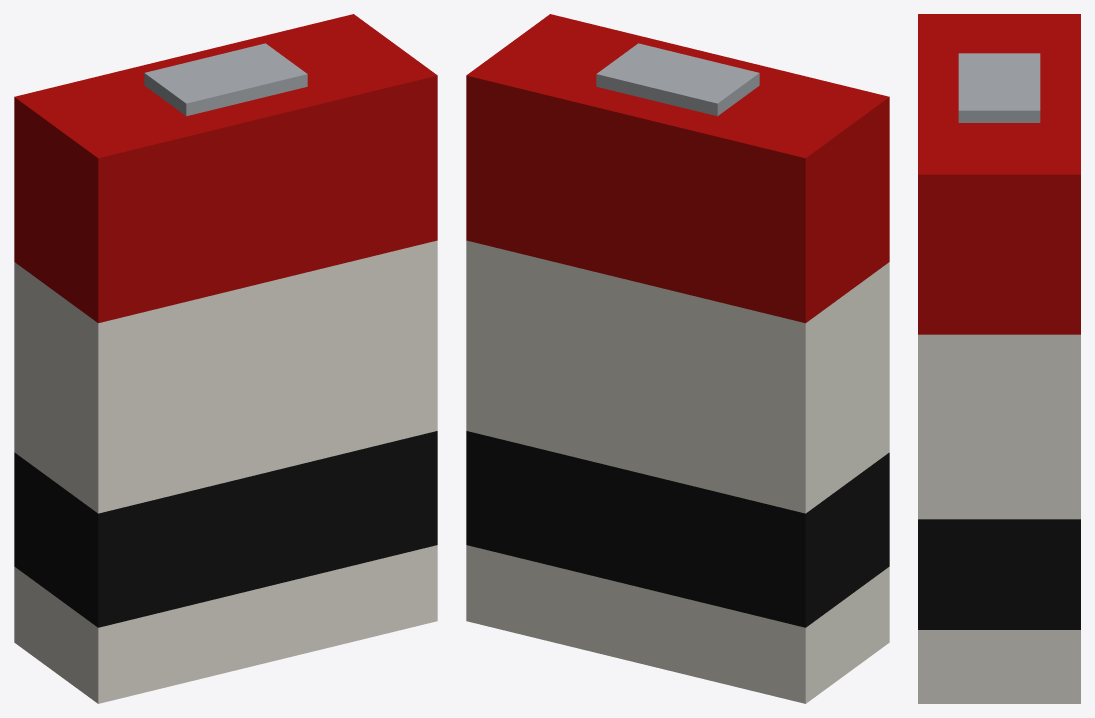
The model's file is cigarette.glb.
The picture shows the model from 3 angles, left to right: view 1: azimuth 30°, elevation 25°; view 2: azimuth 150°, elevation 25°; view 3: azimuth 270°, elevation 25°; orthographic projection. The views are drawn at different scales.
Visible parts, largest first — view 1: cigarette:compound; view 2: cigarette:compound; view 3: cigarette:compound.
Boxes of the visible parts, x1,y1,x2,y2 form: cigarette:compound: (14, 14, 437, 703); cigarette:compound: (466, 14, 889, 703); cigarette:compound: (918, 14, 1080, 703).
Bounding box in the file's own units: 0.056 × 0.088 × 0.024.
